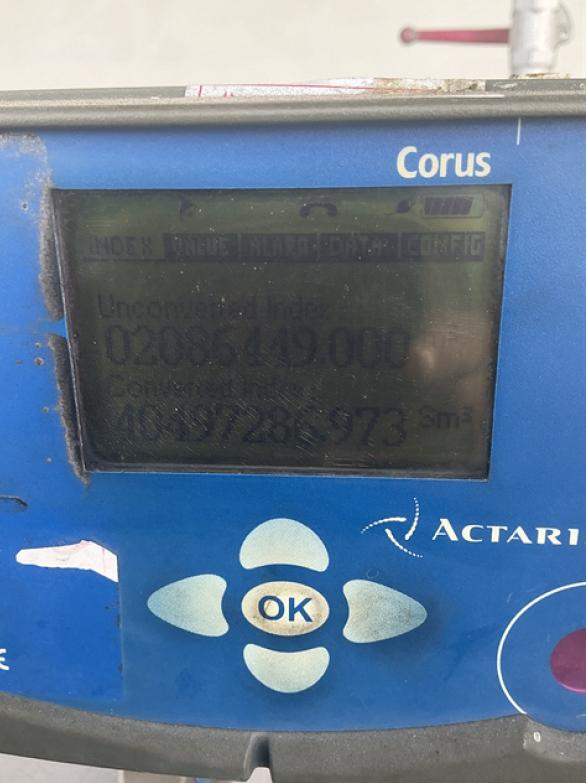digital_screen: (48, 184, 518, 486)
